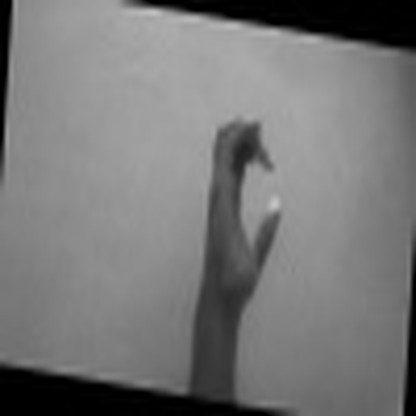c: (196, 108, 282, 311)
